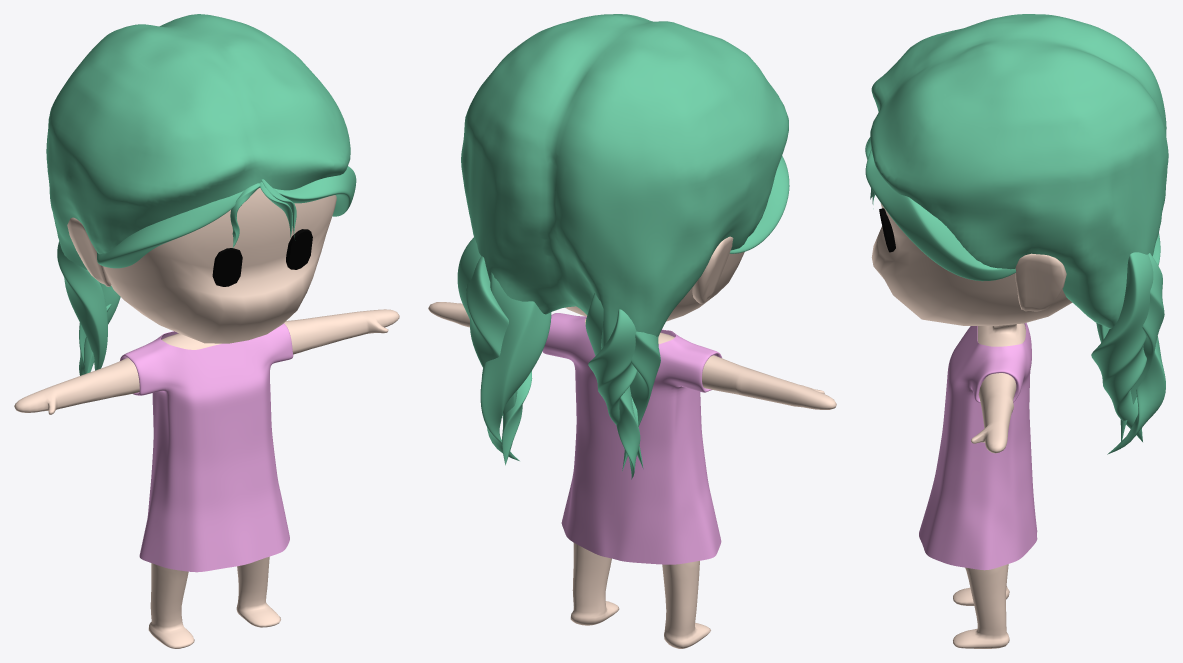
The model's file is Laurel (1).fbx.
The picture shows the model from 3 angles, left to right: view 1: azimuth 30°, elevation 25°; view 2: azimuth 150°, elevation 25°; view 3: azimuth 270°, elevation 25°; orthographic projection. The views are drawn at different scales.
Parts seen in each view (by area): view 1: hair, body, dress, NurbsPath.004, NurbsPath.009, NurbsPath.003, pCube10, pCube9, NurbsPath.008; view 2: hair, dress, body, NurbsPath.005, NurbsPath.010, NurbsPath.006, NurbsPath.008, NurbsPath.007, NurbsPath.009, NurbsPath.004; view 3: hair, dress, body, NurbsPath.007, NurbsPath.003, NurbsPath.005, NurbsPath.006.
Part boxes in pixels (<box>): hair: <box>46,14,350,269</box>; body: <box>14,188,399,648</box>; dress: <box>120,323,293,572</box>; NurbsPath.004: <box>97,190,243,268</box>; NurbsPath.009: <box>57,241,107,370</box>; NurbsPath.003: <box>273,166,356,216</box>; pCube10: <box>212,248,242,286</box>; pCube9: <box>286,229,312,269</box>; NurbsPath.008: <box>79,282,120,375</box>; hair: <box>461,14,788,349</box>; dress: <box>542,313,721,564</box>; body: <box>428,236,836,648</box>; NurbsPath.005: <box>480,272,551,460</box>; NurbsPath.010: <box>588,309,643,468</box>; NurbsPath.006: <box>466,256,517,416</box>; NurbsPath.008: <box>585,293,640,479</box>; NurbsPath.007: <box>457,237,532,465</box>; NurbsPath.009: <box>622,331,660,471</box>; NurbsPath.004: <box>729,155,789,253</box>; hair: <box>870,14,1168,328</box>; dress: <box>919,323,1037,570</box>; body: <box>871,203,1072,648</box>; NurbsPath.007: <box>1091,252,1153,441</box>; NurbsPath.003: <box>865,149,1015,281</box>; NurbsPath.005: <box>1107,336,1165,454</box>; NurbsPath.006: <box>1120,253,1164,441</box>.
Bounding box in the file's own units: 720 × 1037 × 483.
